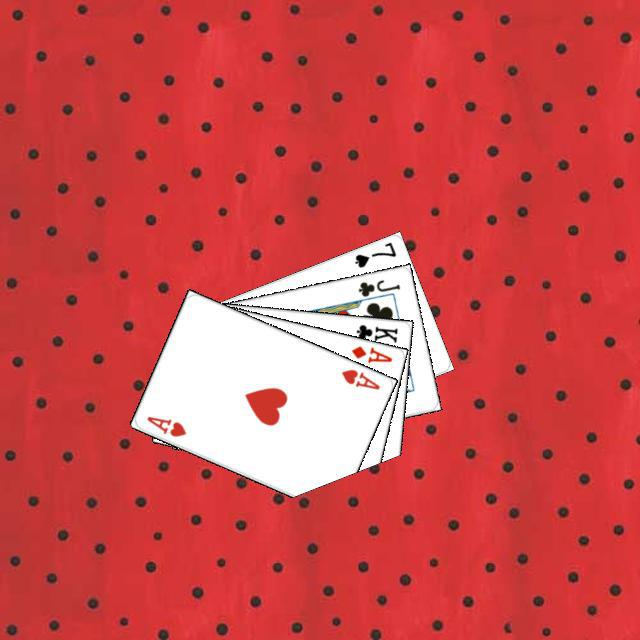7s: (350, 237, 398, 270)
Ad: (346, 341, 394, 365)
Ah: (142, 411, 188, 439), (336, 364, 382, 391)
Jc: (353, 274, 402, 299)
Kc: (346, 320, 399, 348)
